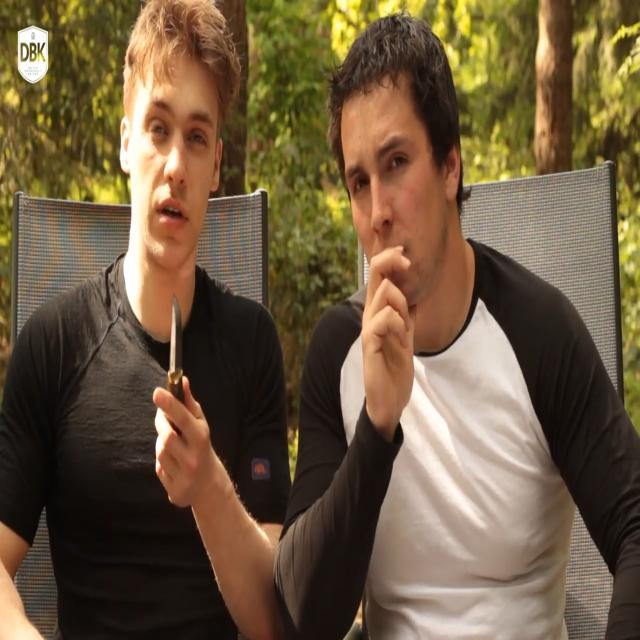knife: (168, 289, 184, 397)
